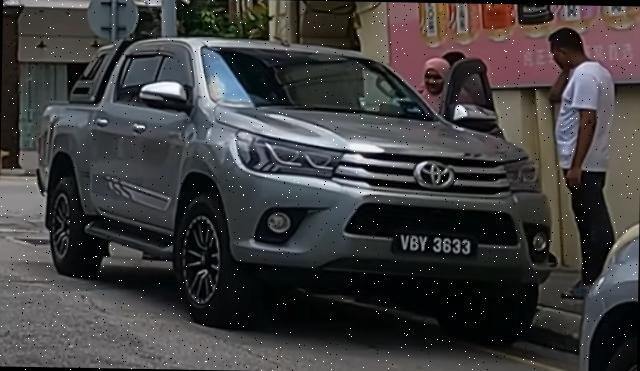License_Plate: (392, 229, 479, 259)
car: (33, 32, 559, 341)
